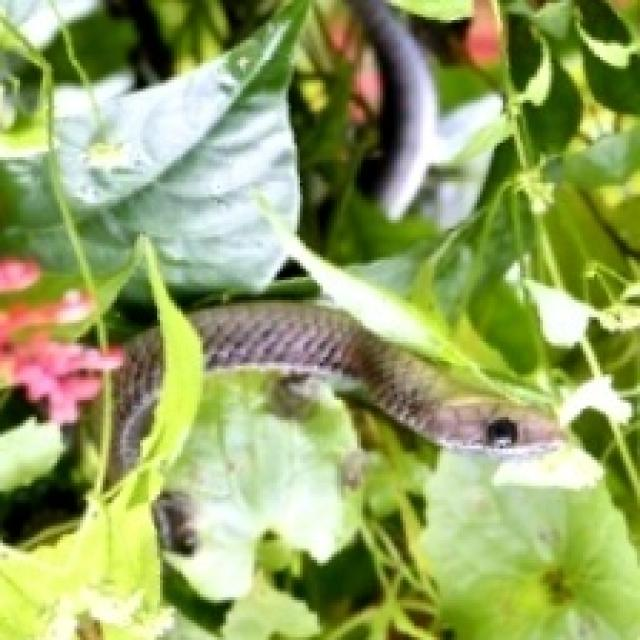smooth-scaled mountain rat snake: (191, 300, 560, 451), (351, 0, 436, 219), (111, 329, 160, 477)
